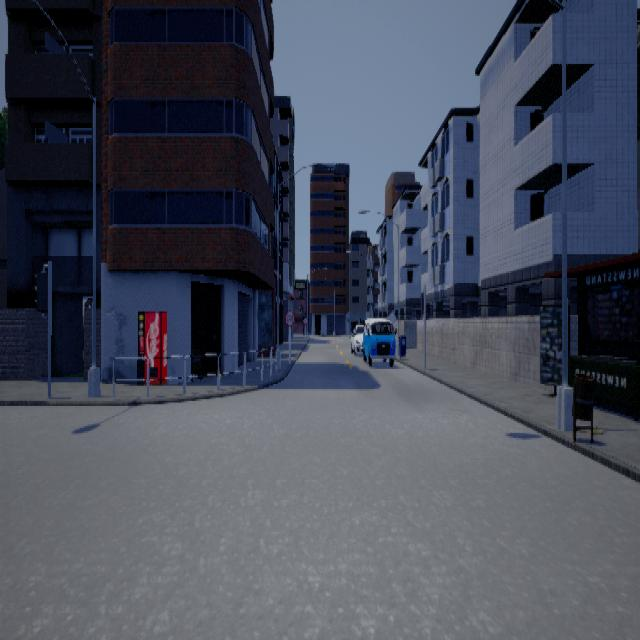traffic_sign: (286, 308, 296, 325)
vehicle: (364, 316, 398, 364), (352, 320, 372, 357)
